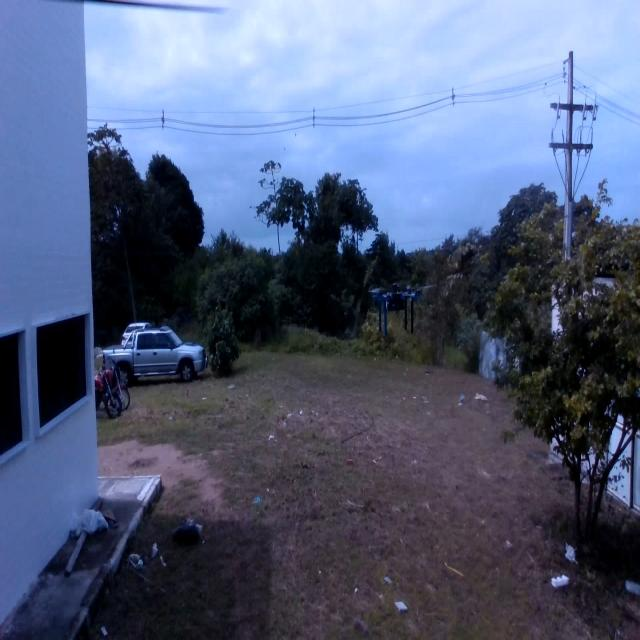-uav-: (359, 272, 441, 346)
